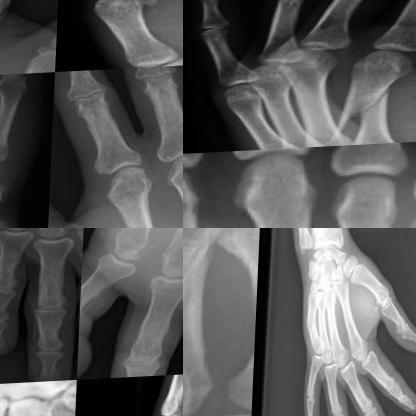fracture: (331, 82, 414, 143), (183, 252, 231, 351), (305, 312, 324, 338)
